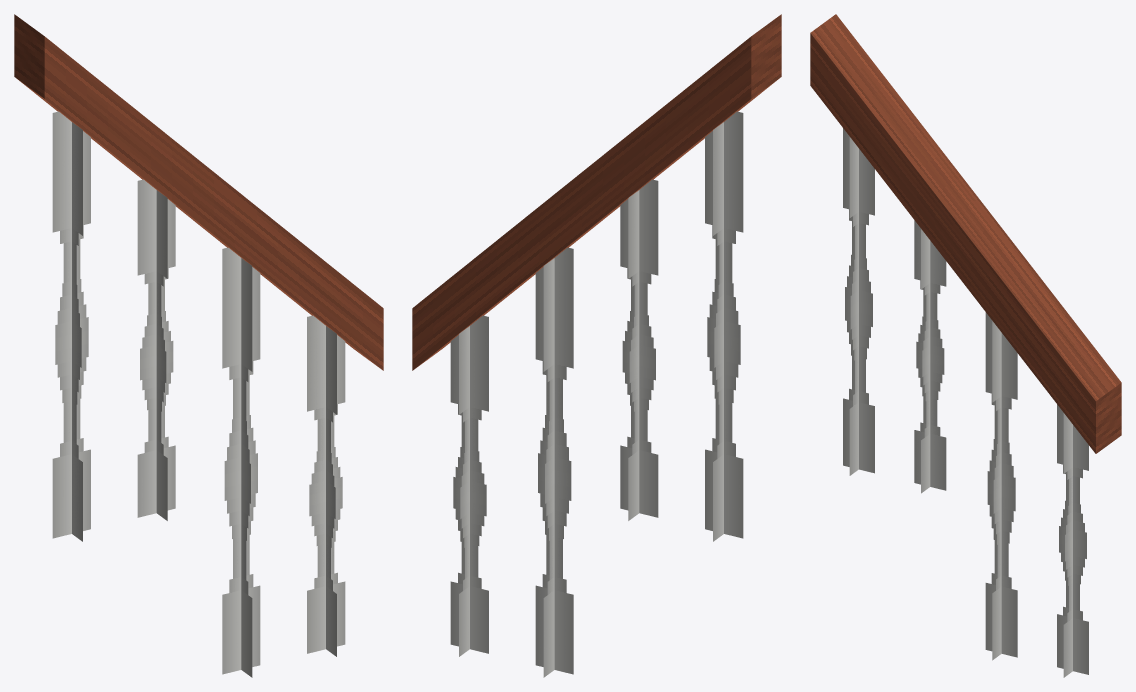
Rendered from mid_neg.obj.
3 renders of one model, left to right at view 1: azimuth 30°, elevation 25°; view 2: azimuth 150°, elevation 25°; view 3: azimuth 330°, elevation 25°, orthographic. The views are drawn at different scales.
Parts seen in each view (by area): view 1: railing_turned_cherry_mid_neg; view 2: railing_turned_cherry_mid_neg; view 3: railing_turned_cherry_mid_neg.
Boxes of the visible parts, x1,y1,x2,y2 form: railing_turned_cherry_mid_neg: (14, 14, 383, 677); railing_turned_cherry_mid_neg: (412, 14, 781, 677); railing_turned_cherry_mid_neg: (810, 14, 1121, 677).
Bounding box in the file's own units: 1 × 1.96 × 0.1562.
